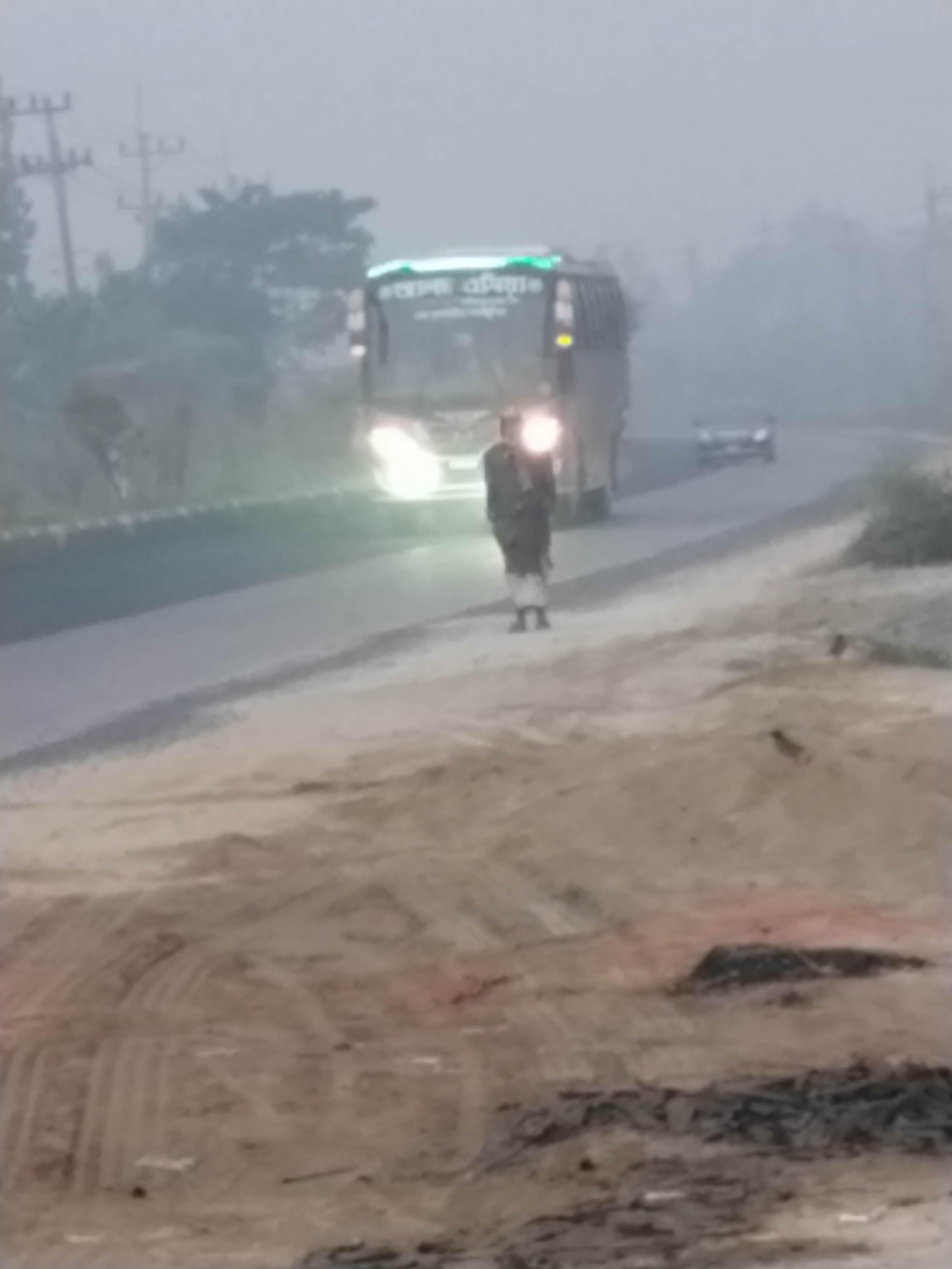Bus: (355, 234, 686, 563)
Car: (690, 390, 801, 476)
